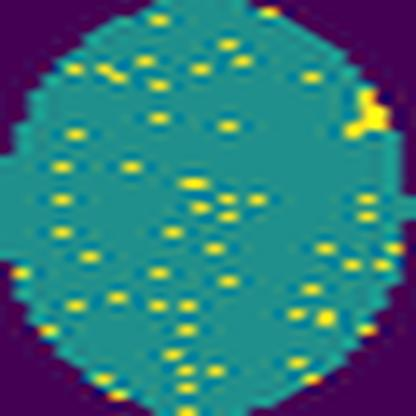Edge-Loc: (343, 81, 396, 141)
